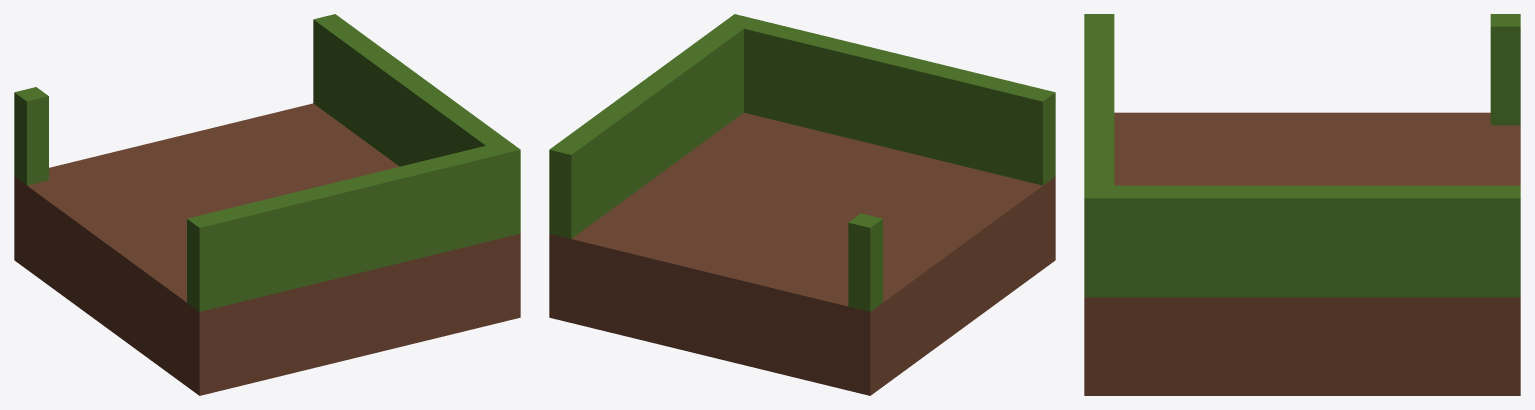
The model's file is Corner.fbx.
3 views of the same model, side by side, from view 1: azimuth 30°, elevation 25°; view 2: azimuth 150°, elevation 25°; view 3: azimuth 270°, elevation 25° (orthographic). The views are drawn at different scales.
Visible parts, largest first — view 1: Corner; view 2: Corner; view 3: Corner.
Part boxes in pixels (x1=…): Corner: x1=14, y1=14, x2=520, y2=395; Corner: x1=549, y1=14, x2=1055, y2=395; Corner: x1=1084, y1=14, x2=1520, y2=395.
Bounding box in the file's own units: 100 × 50 × 100.
